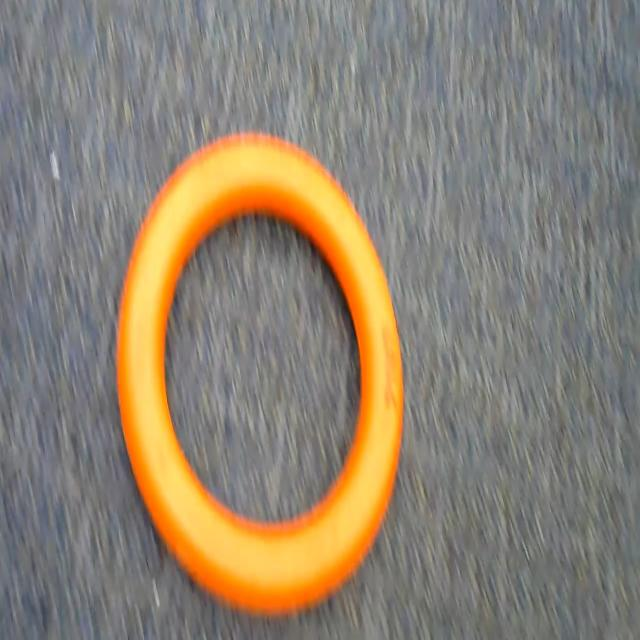note: (112, 124, 412, 640)
